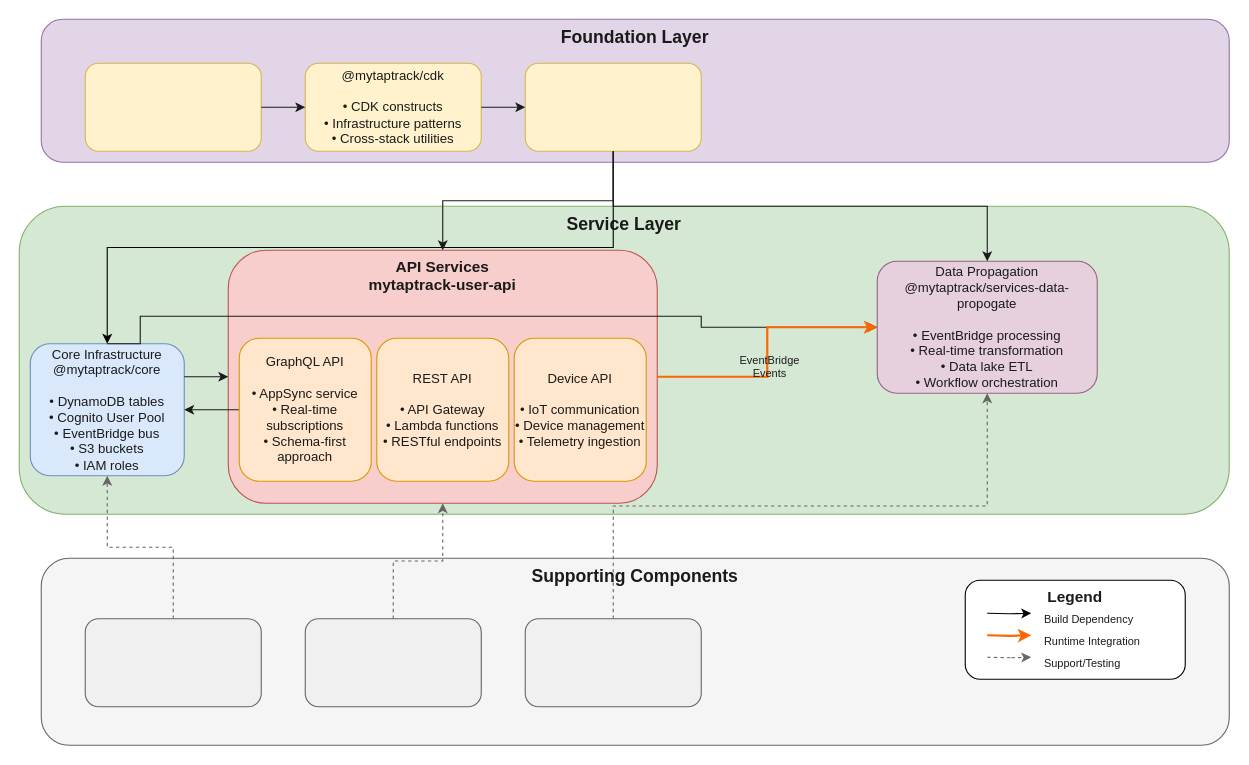
Image size: 1249x765. Some labels were removed from this diagram. Here are the shapes that lost their labels. From the top down, the centre of each, then its label:
[172,106]: @mytaptrack/types • TypeScript interfaces • JSON schemas • Data contracts
[612,106]: @mytaptrack/lib • Business logic • Data access layer • AWS client abstractions
[172,662]: System Tests • Integration testing • API validation • Performance testing
[392,662]: Configuration • Environment configs • Feature flags • Deployment settings
[612,662]: Utilities • Deployment scripts • Environment setup • Data export tools
